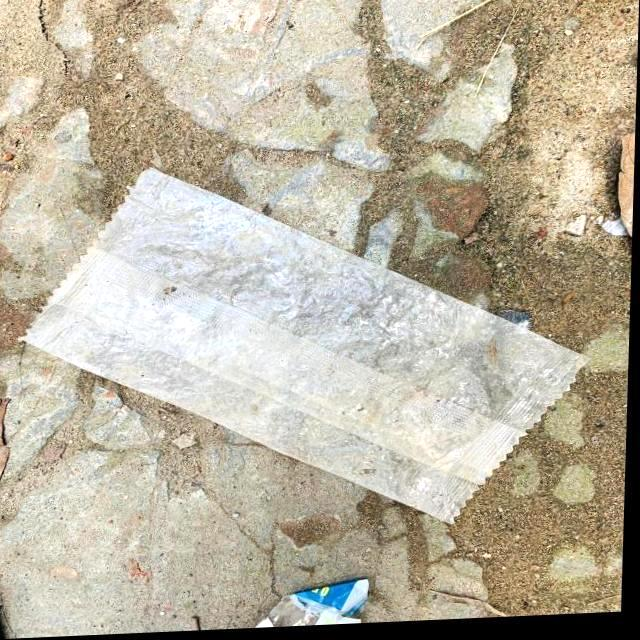polythene: (68, 121, 552, 556)
